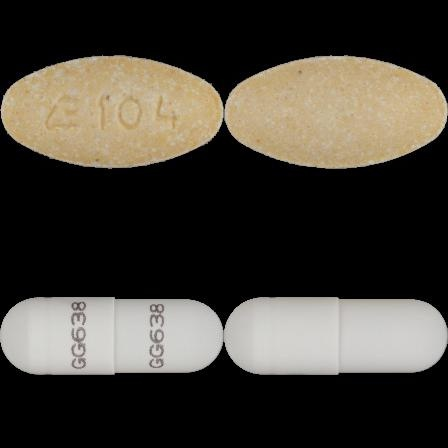68788-8914: (0, 0, 224, 224)
